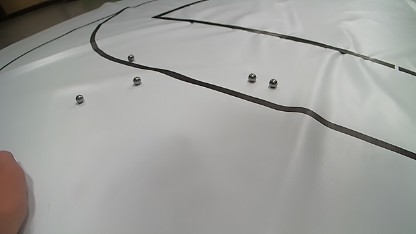ironball: (75, 94, 84, 104), (269, 79, 278, 88), (247, 73, 256, 82), (133, 76, 141, 85), (128, 54, 134, 61)
